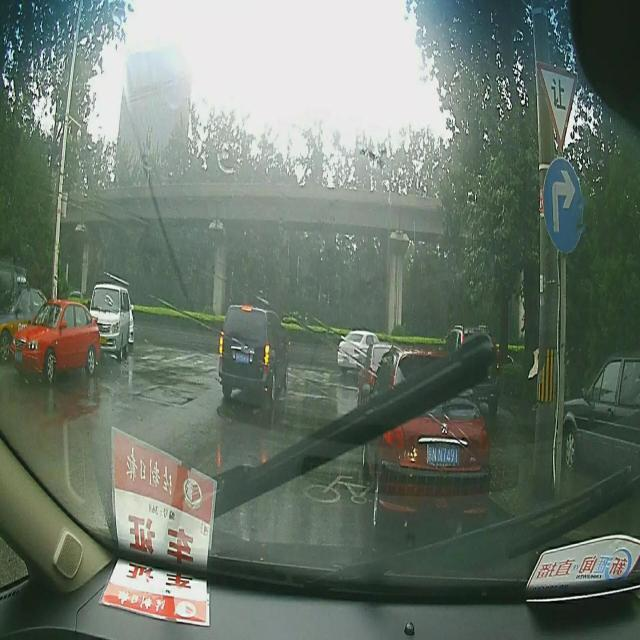car: (364, 346, 489, 534), (562, 356, 640, 474), (9, 298, 100, 382), (218, 305, 288, 404), (445, 324, 498, 414), (0, 284, 53, 364), (92, 285, 130, 363), (356, 344, 394, 406), (336, 330, 381, 372)
